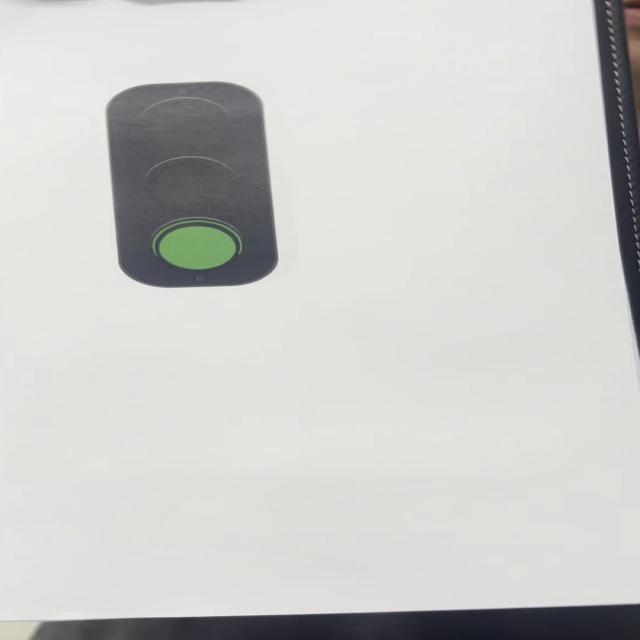green: (105, 82, 280, 288)
